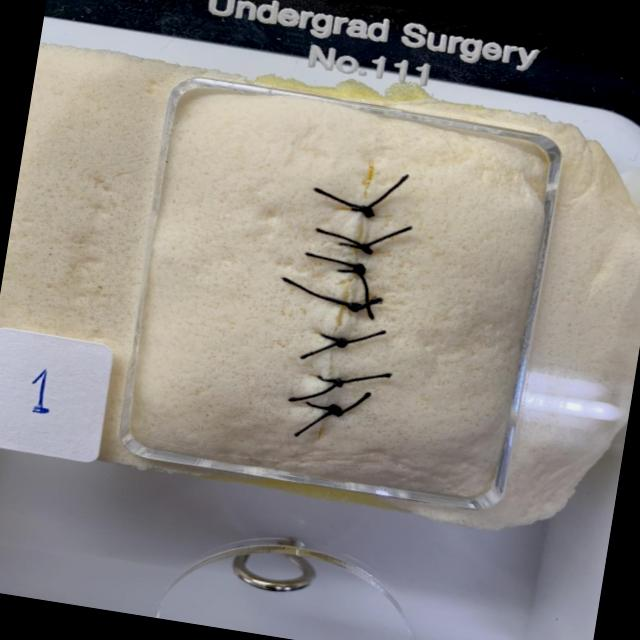knot: (328, 405, 342, 417), (359, 244, 374, 255), (353, 264, 365, 275), (362, 206, 373, 218), (335, 338, 347, 348), (348, 303, 360, 312), (334, 379, 343, 387)
leftover: (277, 276, 352, 306), (361, 172, 411, 213), (310, 186, 367, 213), (291, 407, 339, 438), (360, 224, 415, 251), (311, 226, 365, 251), (301, 251, 361, 273), (284, 381, 342, 403), (356, 268, 375, 321), (297, 341, 345, 361), (333, 390, 373, 413), (340, 328, 389, 346), (336, 372, 394, 386)
stitch: (303, 400, 345, 413), (336, 241, 375, 255), (317, 332, 348, 347), (314, 374, 346, 387), (332, 300, 364, 308), (335, 267, 368, 274), (347, 207, 375, 214)
wound: (317, 159, 376, 440)
